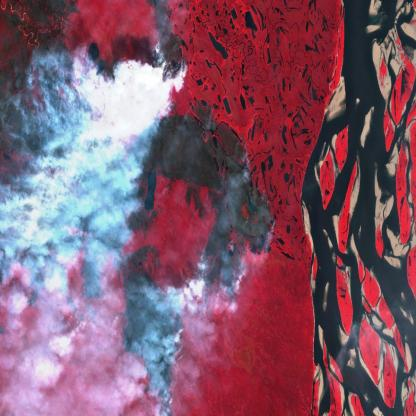fire: (84, 21, 190, 108), (122, 280, 188, 416), (196, 235, 258, 316), (59, 275, 114, 332)
